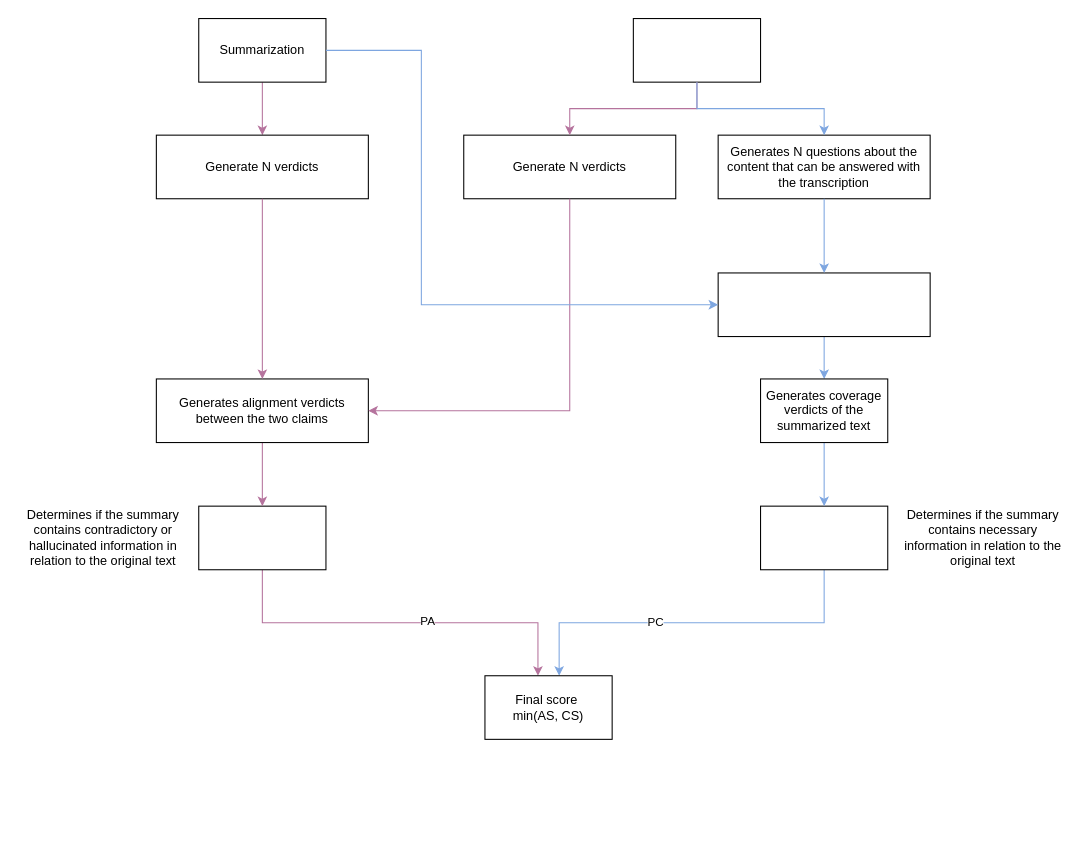
The diagram is 1085 pixels wide and 853 high, and some of its shapes have lost their labels. Here are the shapes that lost their labels. From the top down, the box of each, then its label:
(632, 17, 761, 82): Original Transcription
(717, 272, 930, 337): Generates answers to the questions
(198, 505, 326, 570): Alignment Score (AS)
(759, 505, 888, 570): Coverage Score (CS)
